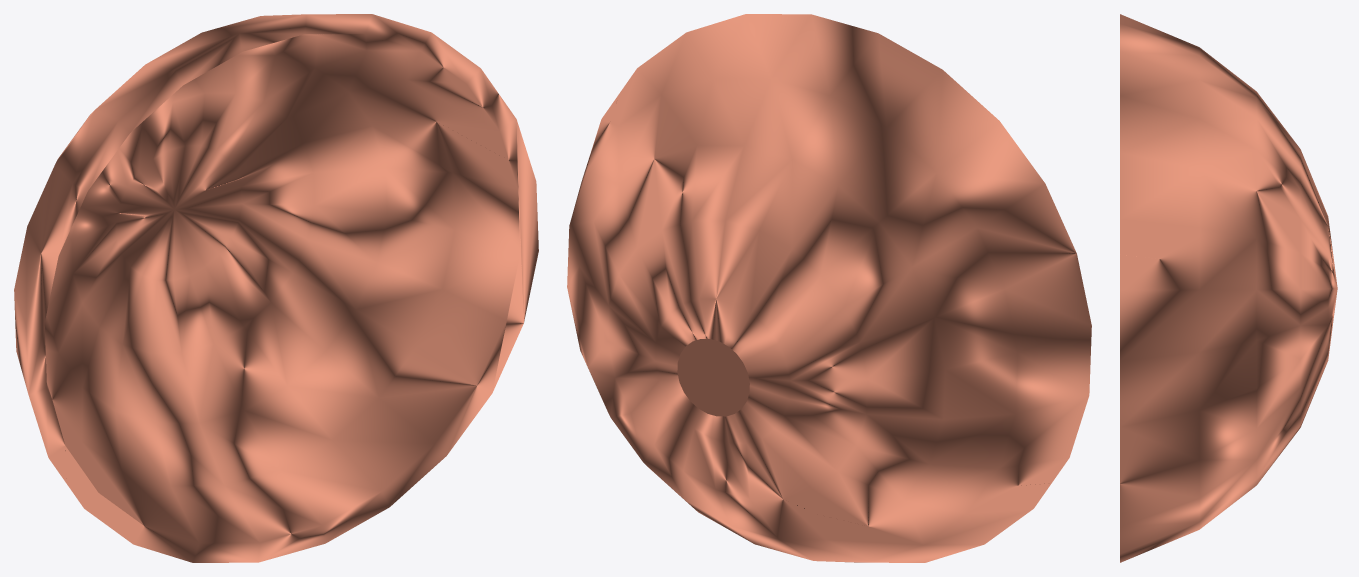
File: model_align.obj
3 renders of one model, left to right at view 1: azimuth 30°, elevation 25°; view 2: azimuth 150°, elevation 25°; view 3: azimuth 270°, elevation 25°, orthographic. The views are drawn at different scales.
Bounding box in the file's own units: 0.1423 × 0.1423 × 0.0586.
